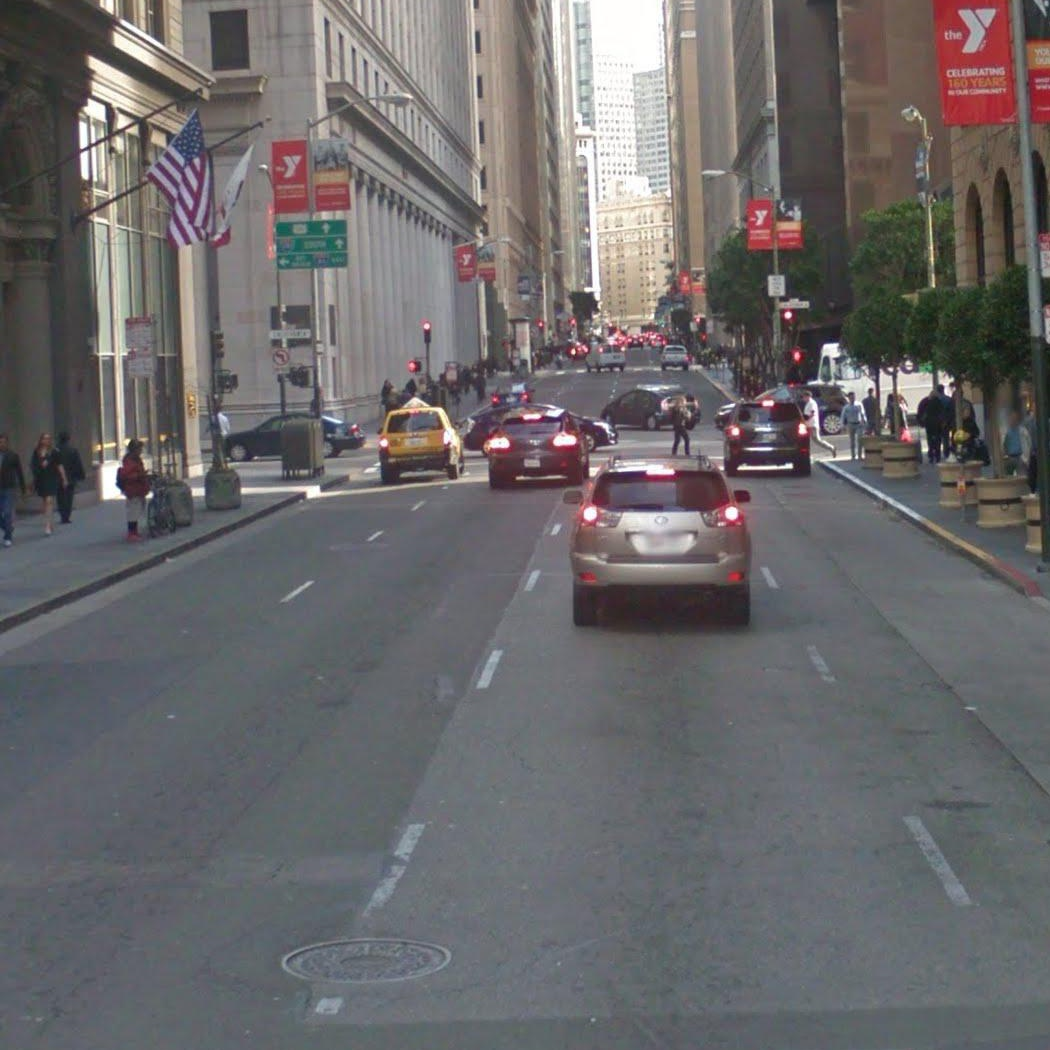No Parking: (127, 350, 156, 377)
